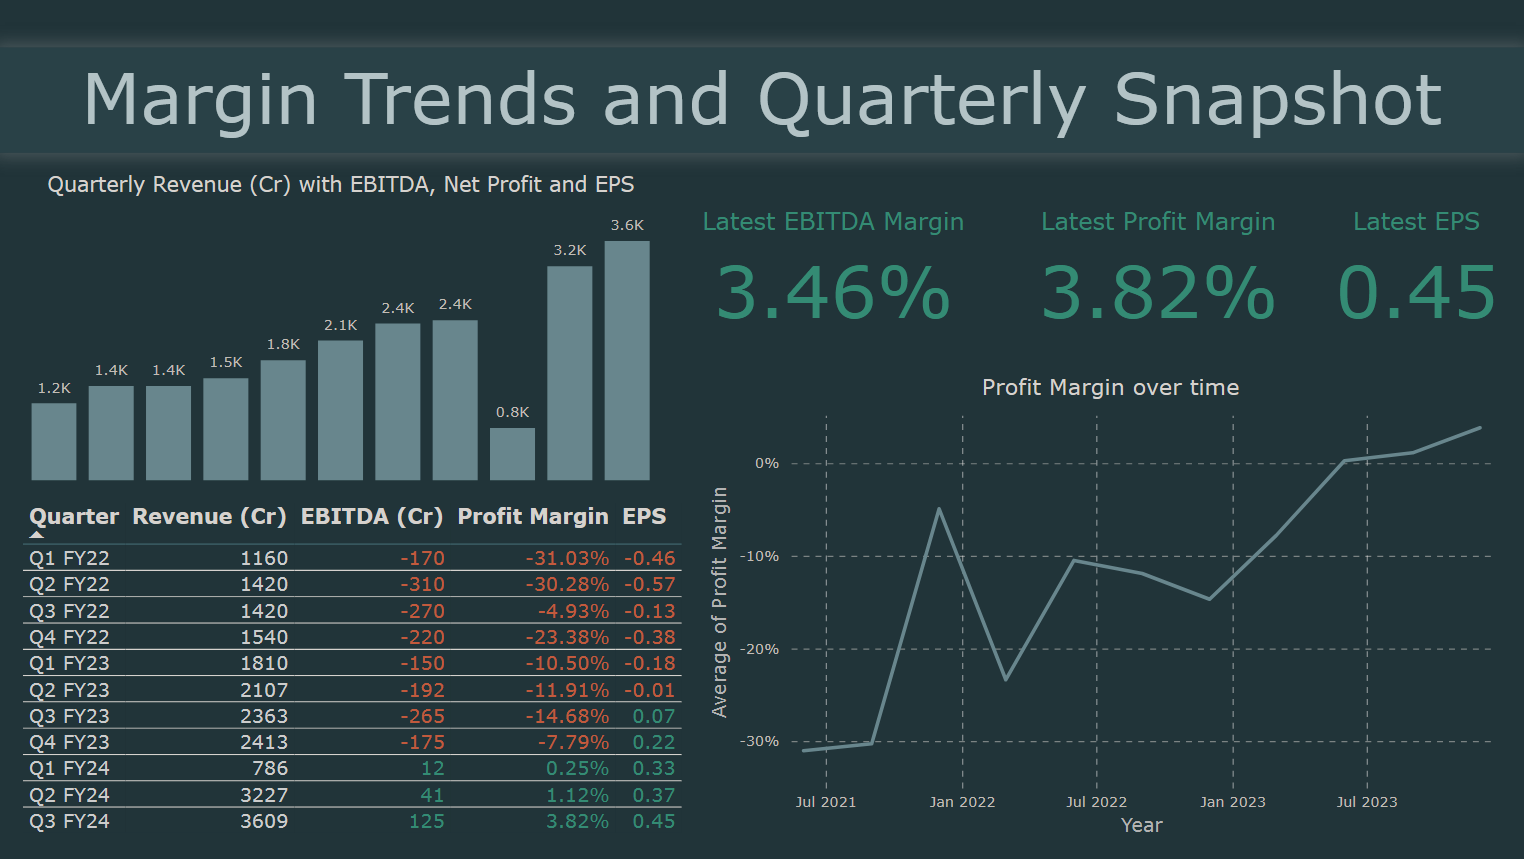

The page's visual inventory and layout, read from the dashboard file:
{"tool":"powerbi","page":{"name":"Page 2","canvas":[1280,720],"ordinal":1},"visuals":[{"type":"lineChart","title":"Profit Margin over time","fields":{"Y":["Avg(Sheet1.Profit Margin)"],"Category":["Sheet1.End Date.Variation.Date Hierarchy.Year","Sheet1.End Date.Variation.Date Hierarchy.Quarter","Sheet1.End Date.Variation.Date Hierarchy.Month"]},"box":[592,312,680,392],"z":0},{"type":"tableEx","fields":{"Values":["Sheet1.Quarter","Sheet1.Revenue (Cr)","Sheet1.EBITDA (Cr)","Sheet1.Profit Margin","Sheet1.EPS "]},"box":[16,416,568,296],"z":1000},{"type":"clusteredColumnChart","title":"Quarterly Revenue (Cr) with EBITDA, Net Profit and EPS","fields":{"Category":["Sheet1.Quarter"],"Y":["Sum(Sheet1.Revenue (Cr))"]},"box":[24,144,528,264],"z":2000},{"type":"card","fields":{"Values":["Sheet1.Latest EBITDA Margin (%)"]},"box":[552,168,296,120],"z":3000},{"type":"card","fields":{"Values":["Sheet1.Latest EPS (%)"]},"box":[1096,168,184,120],"z":4000},{"type":"card","fields":{"Values":["Sheet1.Latest Profit Margin (%)"]},"box":[848,168,248,120],"z":6000},{"type":"textbox","box":[0,40,1280,88],"z":7000}]}

Visuals, with their boxes in screenshot pixels (x1, y1, x2, y2), scaled from the page's 1280x720 canvas onto the 1524x859 screenshot:
"Profit Margin over time" lineChart: (x1=705, y1=372, x2=1514, y2=840)
tableEx - Sheet1.Quarter x Sheet1.Revenue (Cr): (x1=19, y1=496, x2=695, y2=849)
"Quarterly Revenue (Cr) with EBITDA, Net Profit and EPS" clusteredColumnChart: (x1=29, y1=172, x2=657, y2=487)
card - Sheet1.Latest EBITDA Margin (%): (x1=657, y1=200, x2=1010, y2=344)
card - Sheet1.Latest EPS (%): (x1=1305, y1=200, x2=1523, y2=344)
card - Sheet1.Latest Profit Margin (%): (x1=1010, y1=200, x2=1305, y2=344)
textbox: (x1=0, y1=48, x2=1523, y2=153)
